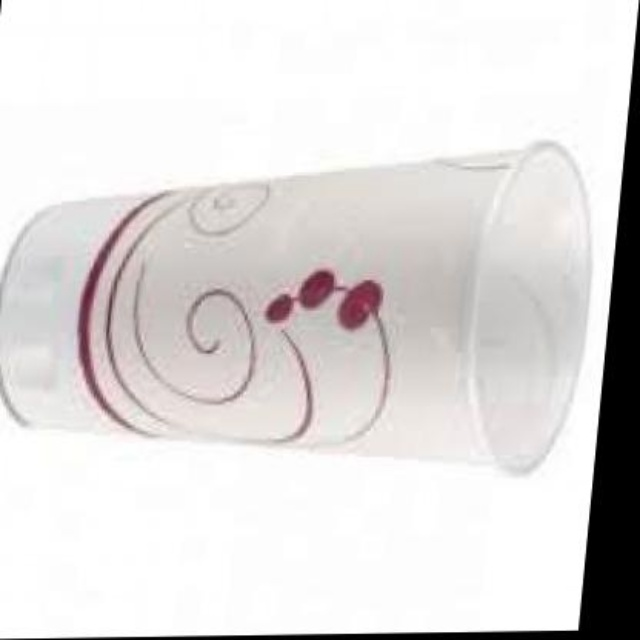trash: (0, 143, 589, 471)
